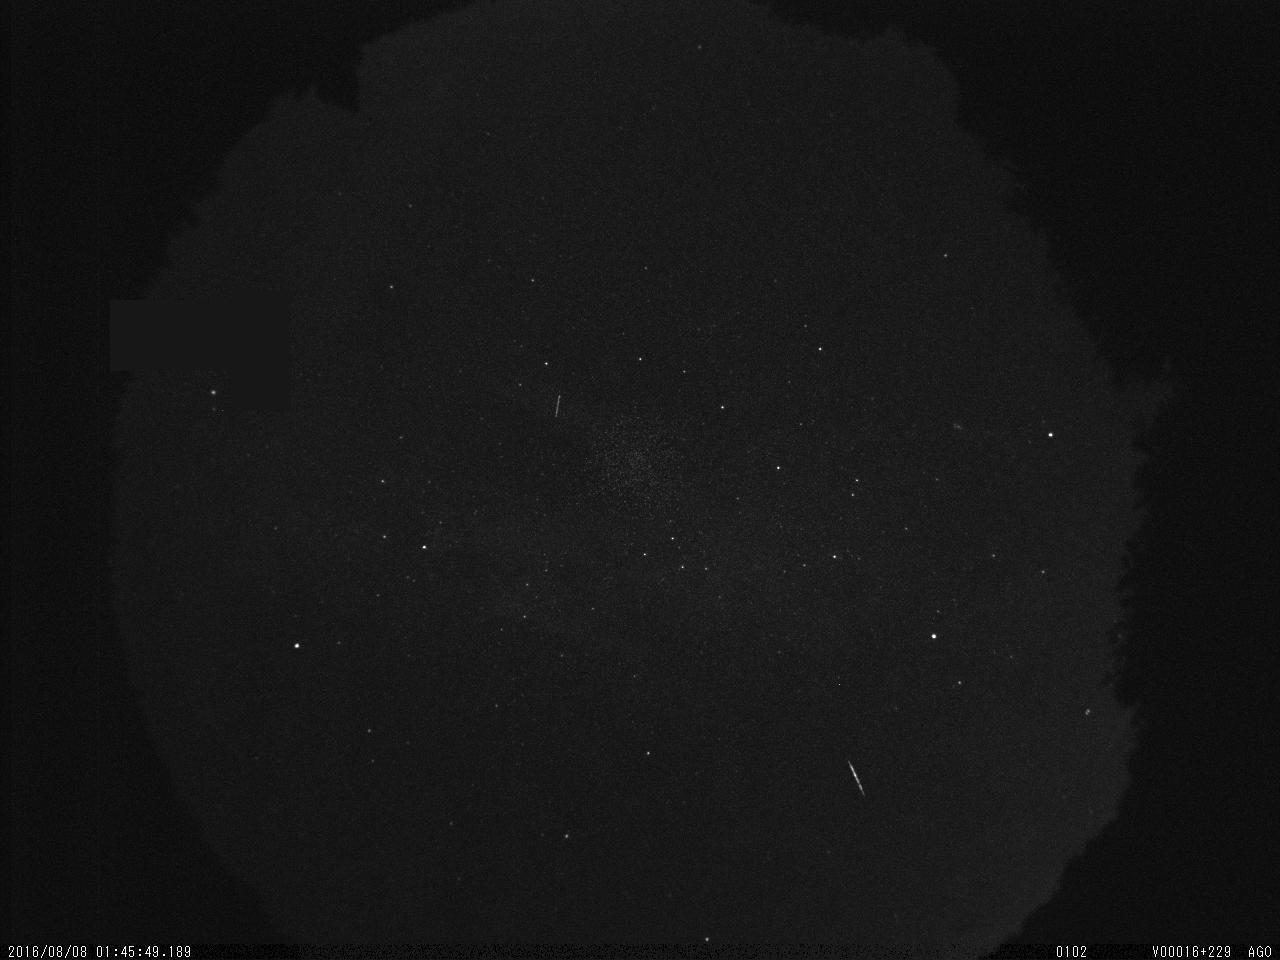meteor: (841, 755, 875, 807)
